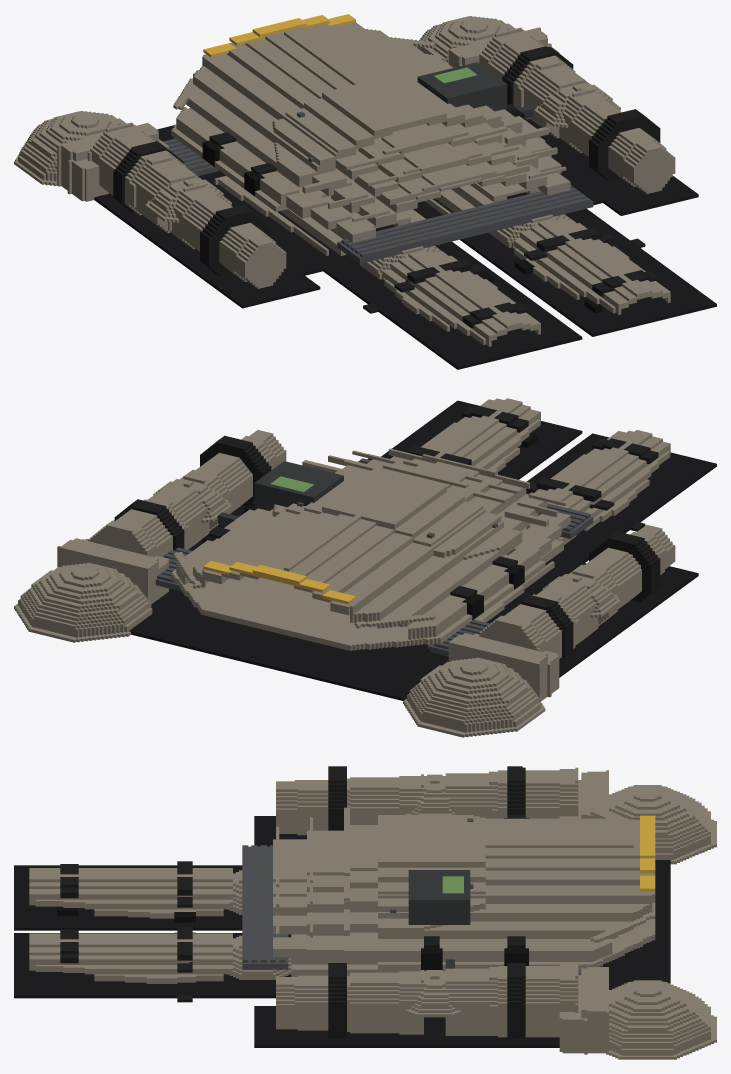
File: armor_nomad_heavyplate_on.glb
3 renders of one model, top to bottom at view 1: azimuth 30°, elevation 25°; view 2: azimuth 150°, elevation 25°; view 3: azimuth 270°, elevation 25°, orthographic. The views are drawn at different scales.
Parts seen in each view (by area): view 1: armor_nomad_heavyplate_on:compound; view 2: armor_nomad_heavyplate_on:compound; view 3: armor_nomad_heavyplate_on:compound.
Part boxes in pixels (bbox=[...]): armor_nomad_heavyplate_on:compound: bbox=[14, 14, 716, 369]; armor_nomad_heavyplate_on:compound: bbox=[14, 398, 716, 737]; armor_nomad_heavyplate_on:compound: bbox=[14, 766, 716, 1059].
Size of the model in its own units: 0.776 by 0.136 by 0.912.
